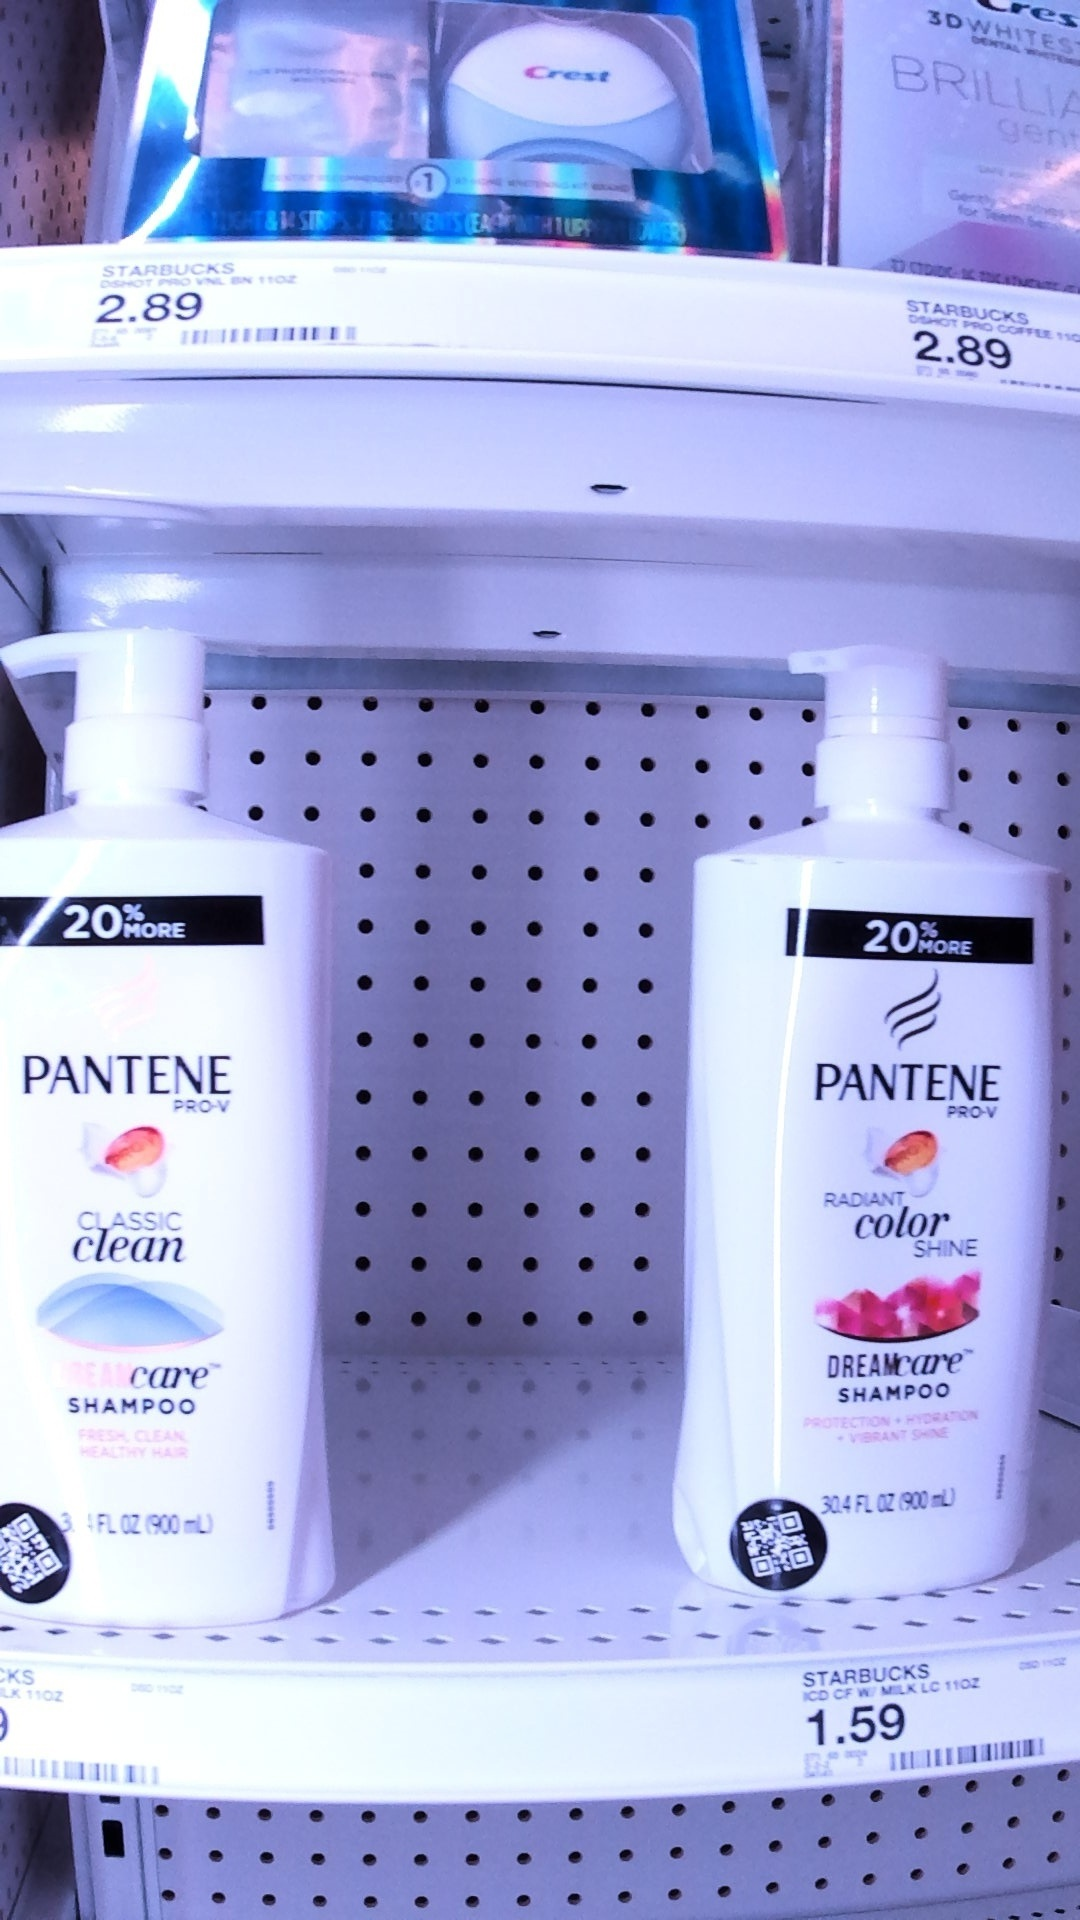ptag: (82, 244, 402, 363), (785, 1664, 1080, 1784), (1, 1660, 195, 1792), (893, 273, 1080, 406)
